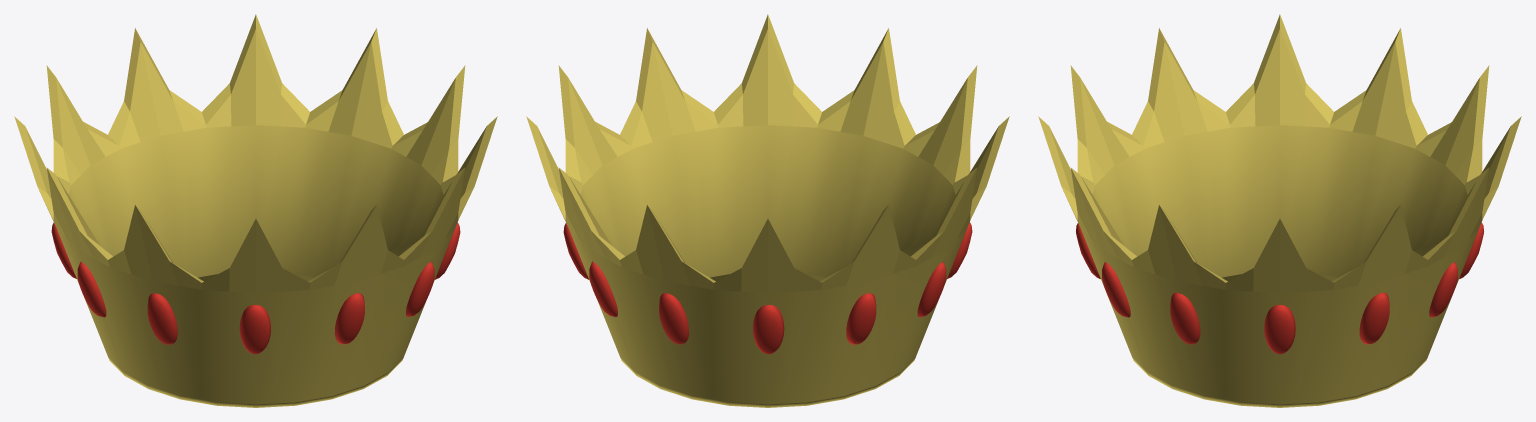
The model's file is Hat_Crown.fbx.
3 views of the same model, side by side, from view 1: azimuth 30°, elevation 25°; view 2: azimuth 150°, elevation 25°; view 3: azimuth 270°, elevation 25° (orthographic).
Parts seen in each view (by area): view 1: Crown; view 2: Crown; view 3: Crown.
Part boxes in pixels (box(x1,y1,x2,y2)): Crown: box(14, 14, 497, 407); Crown: box(526, 14, 1009, 407); Crown: box(1038, 14, 1521, 407).
Size of the model in its own units: 228 by 119 by 228.
